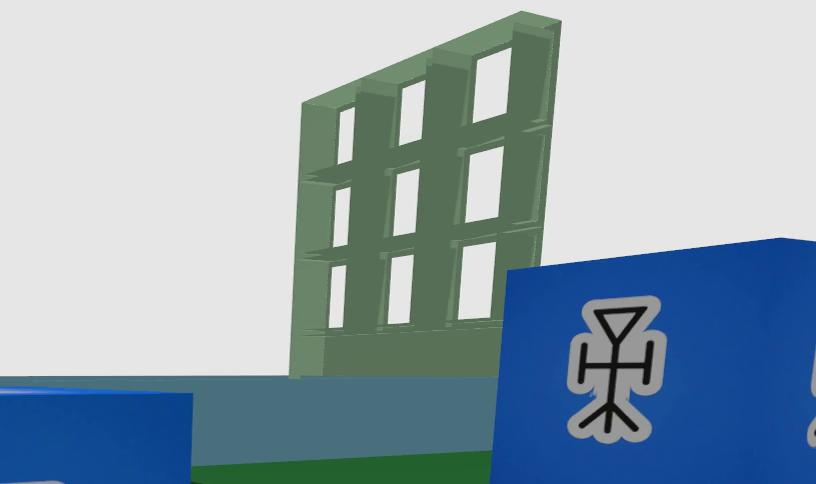KFS_REAL: (490, 238, 815, 484), (0, 387, 192, 484), (566, 297, 666, 444), (2, 481, 60, 484)
